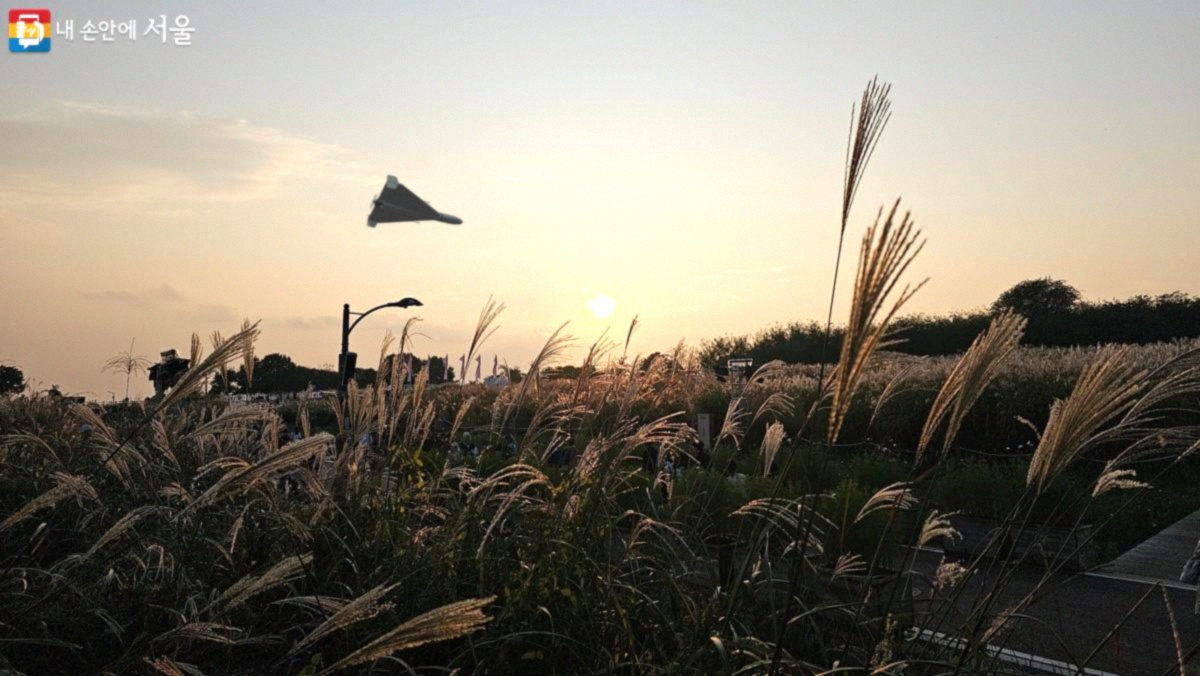shahed: (365, 174, 464, 235)
